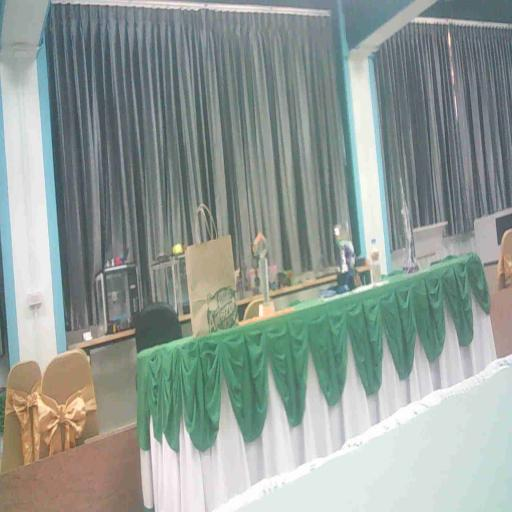bag: (182, 230, 242, 342)
